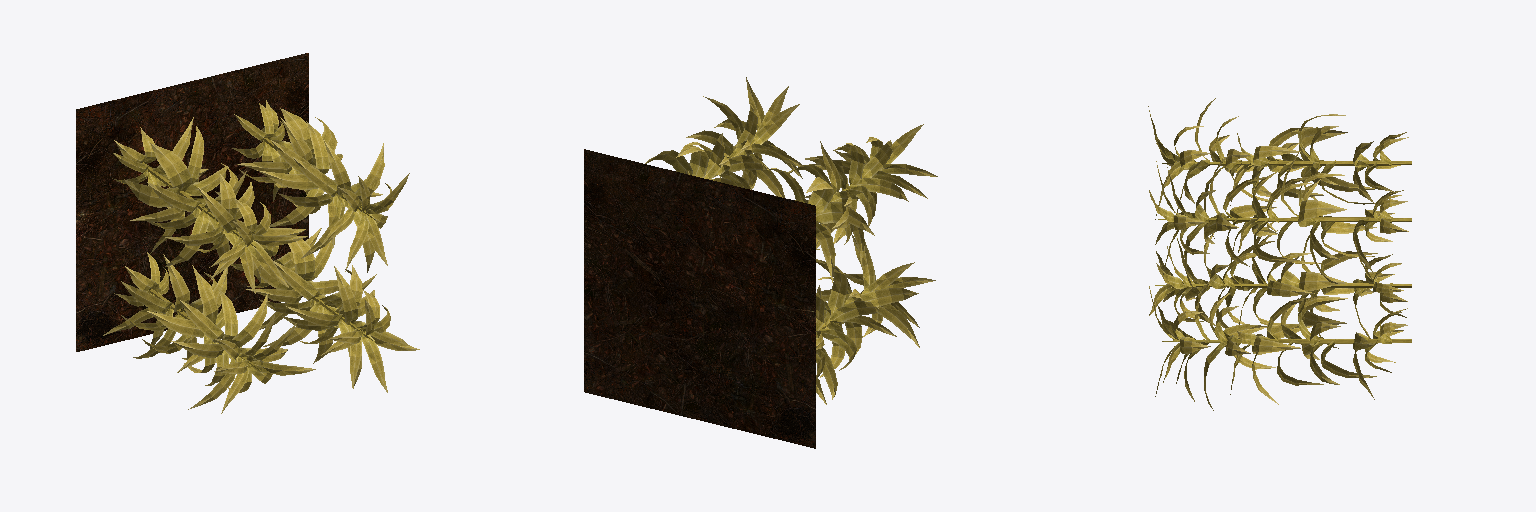
3 renders of one model, left to right at view 1: azimuth 30°, elevation 25°; view 2: azimuth 150°, elevation 25°; view 3: azimuth 270°, elevation 25°, orthographic.
Visible parts, largest first — view 1: ground.110; view 2: ground.110; view 3: ground.110.
Part boxes in pixels (x1,y1,x2,y2): ground.110: (76,53,419,413); ground.110: (584,77,937,448); ground.110: (1148,98,1411,410).
Bounding box in the file's own units: 1.02 × 1.04 × 0.9818.
Materials: 2 (2 with a texture image).